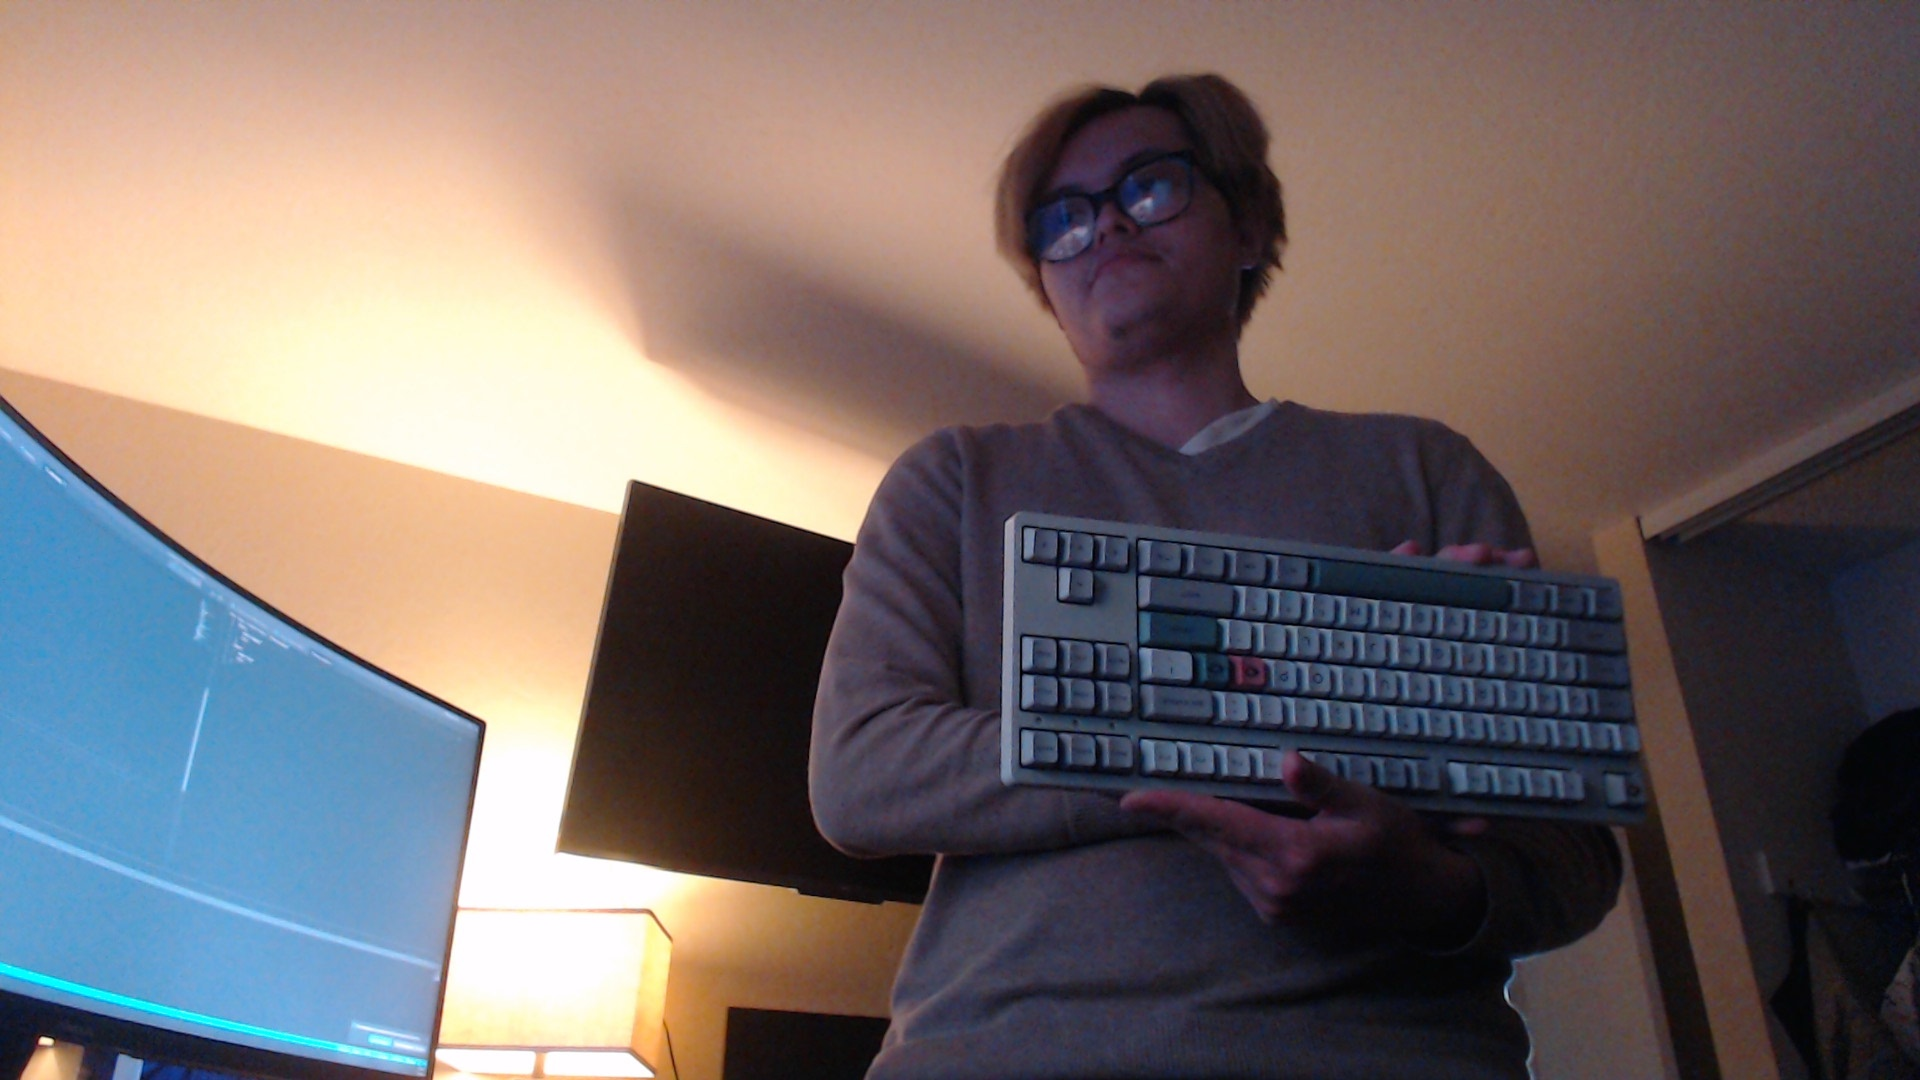keyboard: (992, 510, 1654, 833)
